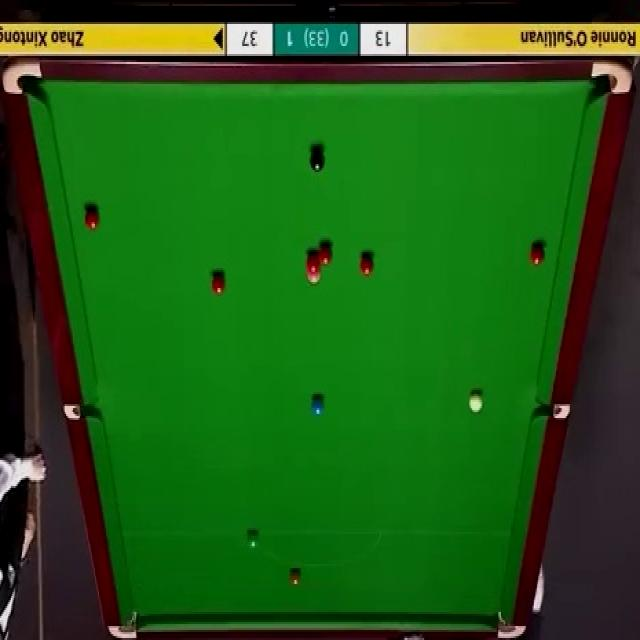black-ball: (308, 147, 326, 175)
blue-ball: (310, 397, 323, 416)
brown-ball: (290, 569, 302, 587)
green-ball: (247, 530, 260, 551)
pink-ball: (305, 268, 322, 286)
red-ball: (529, 240, 545, 268), (83, 209, 102, 232), (359, 254, 375, 275), (211, 274, 226, 296), (318, 243, 332, 265), (306, 253, 322, 270)
white-ball: (468, 390, 484, 415)
